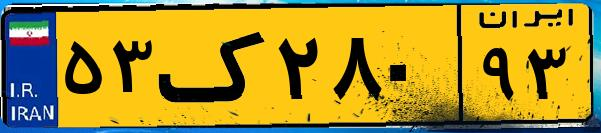0: (385, 28, 445, 110)
2: (270, 28, 330, 110)
3: (525, 38, 570, 115), (110, 28, 158, 98)
5: (57, 26, 110, 100)
8: (330, 28, 385, 110)
9: (475, 38, 525, 113)
ک: (158, 12, 270, 120)
